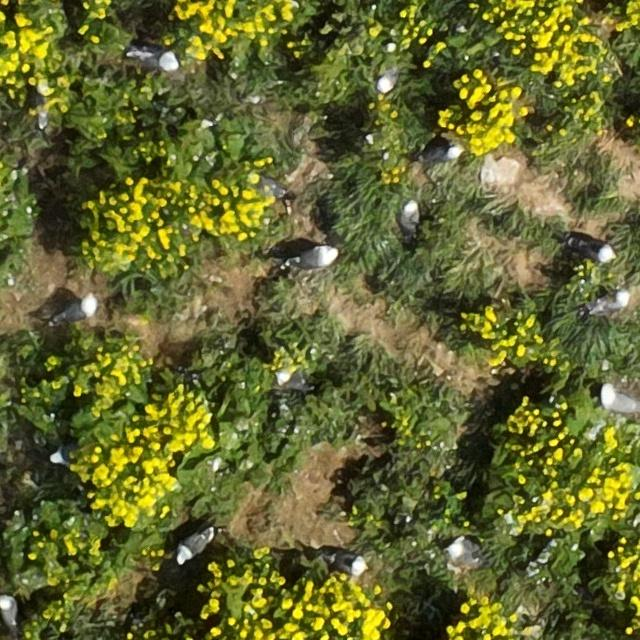umineko: (444, 535, 481, 567), (601, 382, 639, 413), (177, 530, 212, 561), (133, 48, 178, 70), (569, 237, 612, 260), (590, 291, 631, 314), (54, 298, 93, 321), (293, 245, 333, 267), (326, 552, 364, 574), (376, 63, 398, 91), (422, 146, 457, 162), (400, 202, 417, 234), (0, 597, 16, 630)
